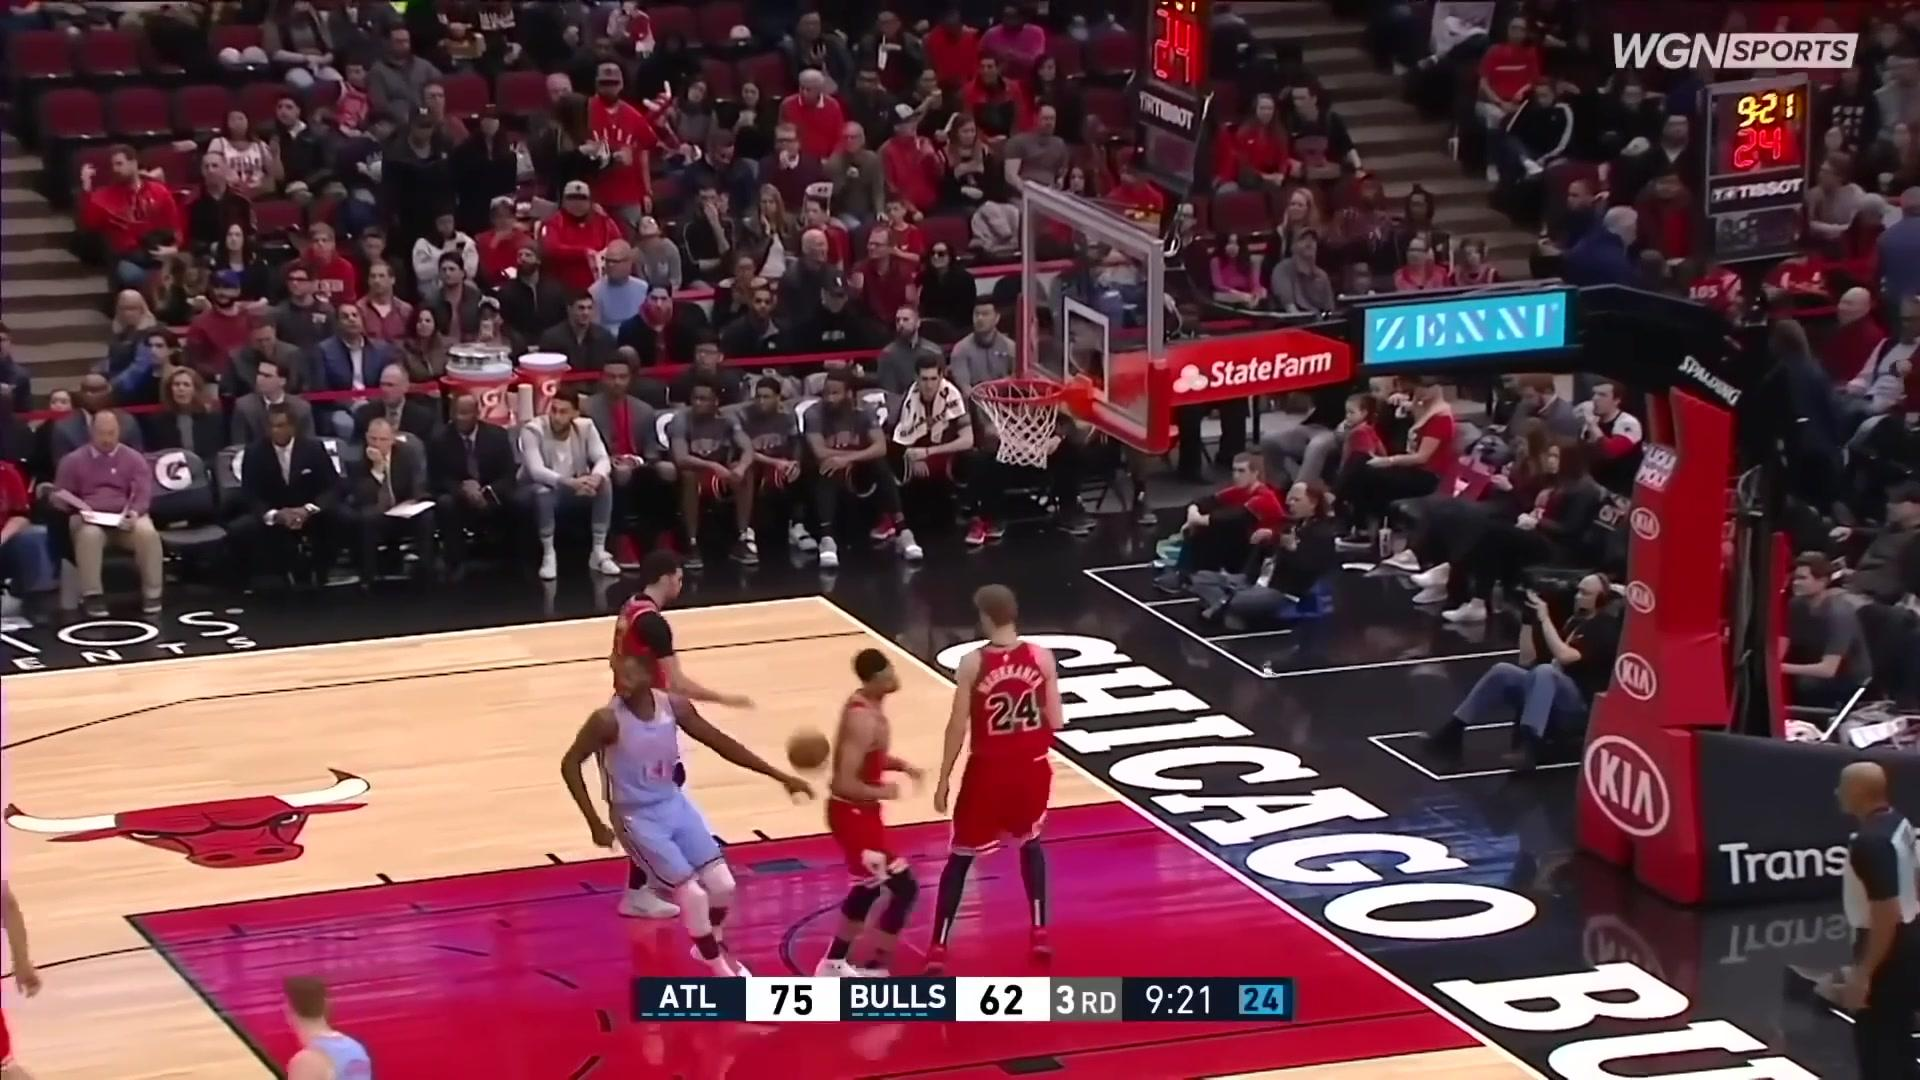no_foul: (488, 560, 907, 965)
